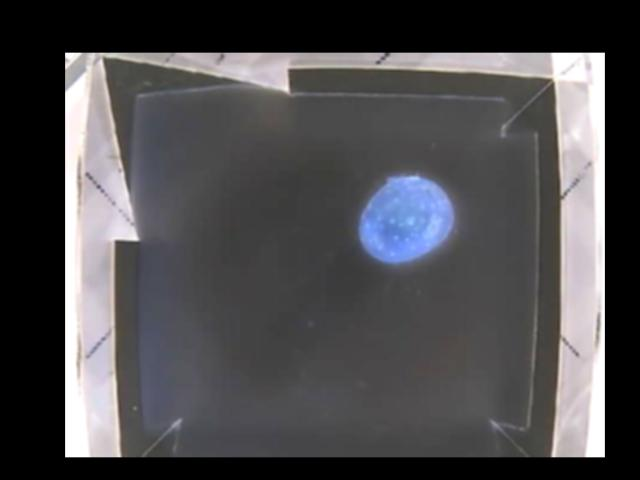Potato: (357, 175, 454, 263)
